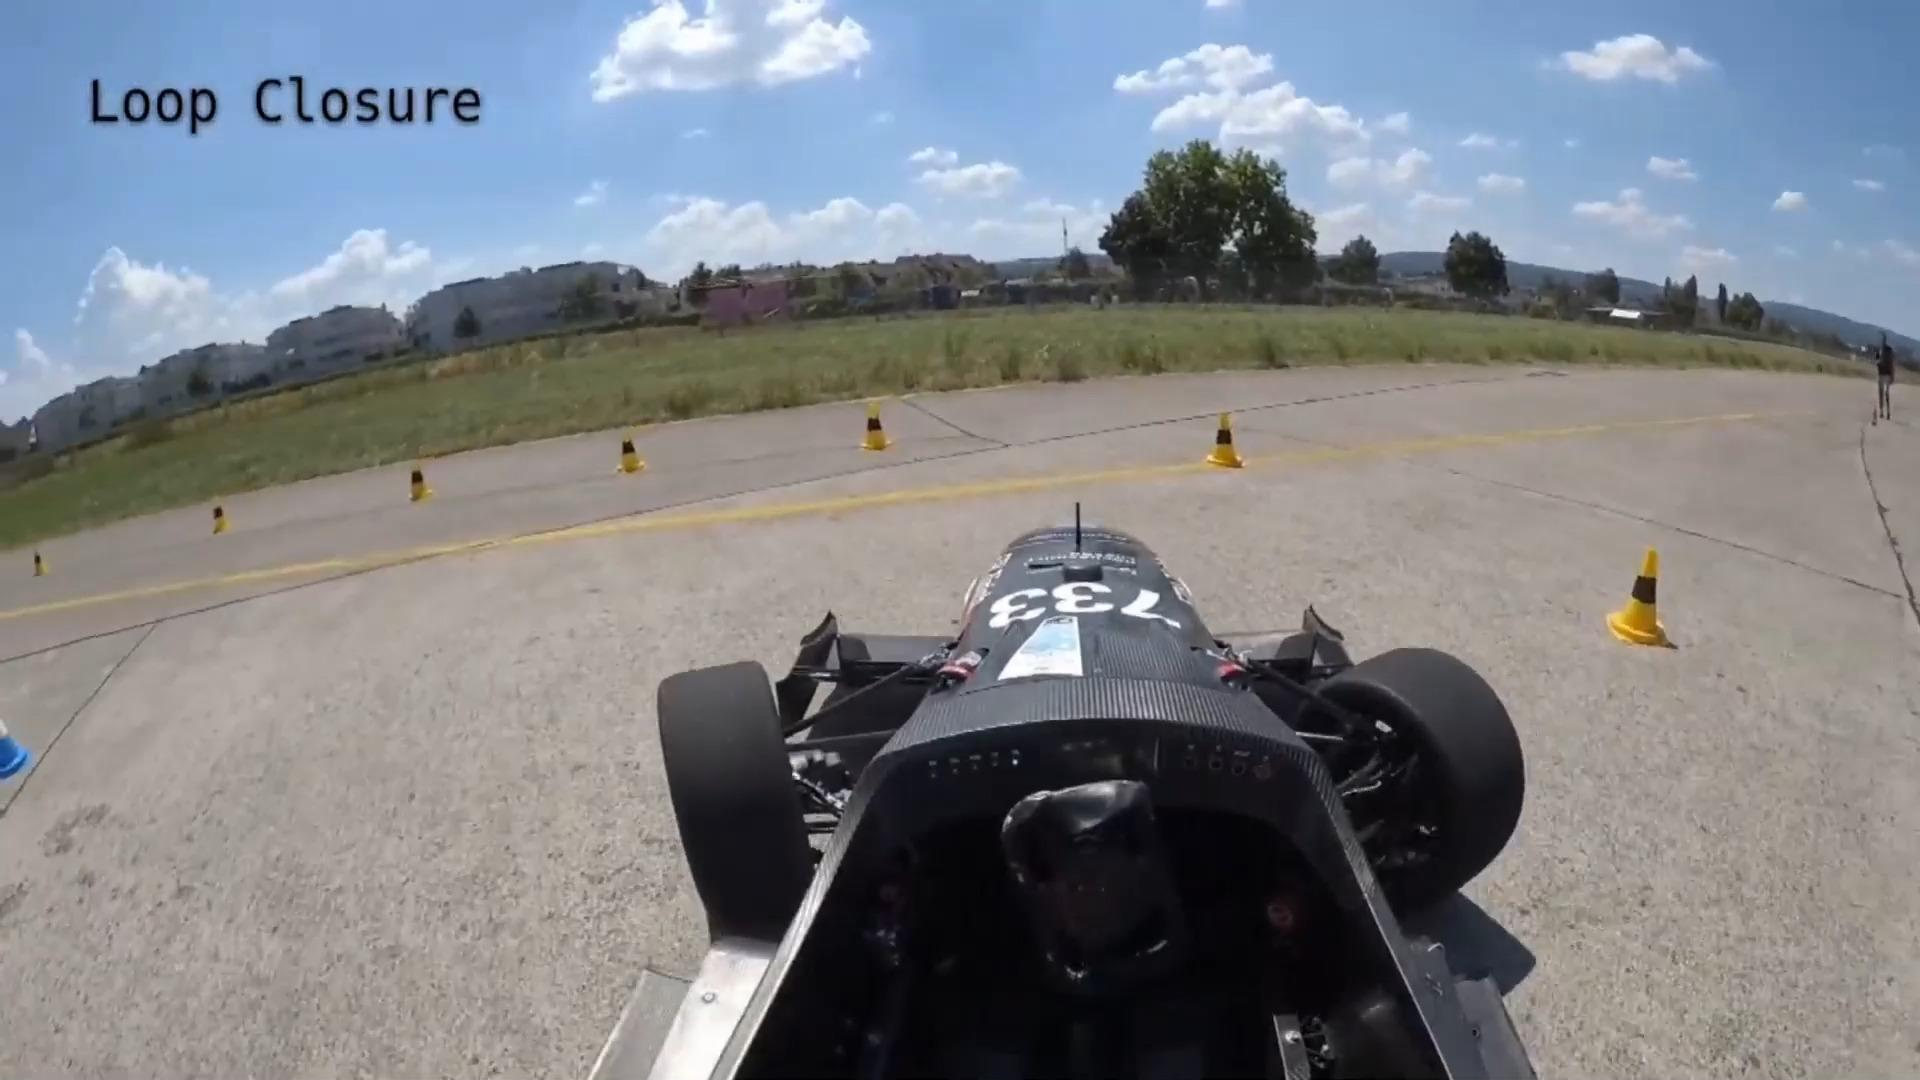blue_cone: (0, 689, 37, 786)
yellow_cone: (1595, 533, 1687, 649), (1208, 411, 1250, 470), (860, 395, 894, 454), (613, 425, 647, 476), (405, 456, 433, 506), (210, 495, 233, 541), (33, 541, 53, 580)
